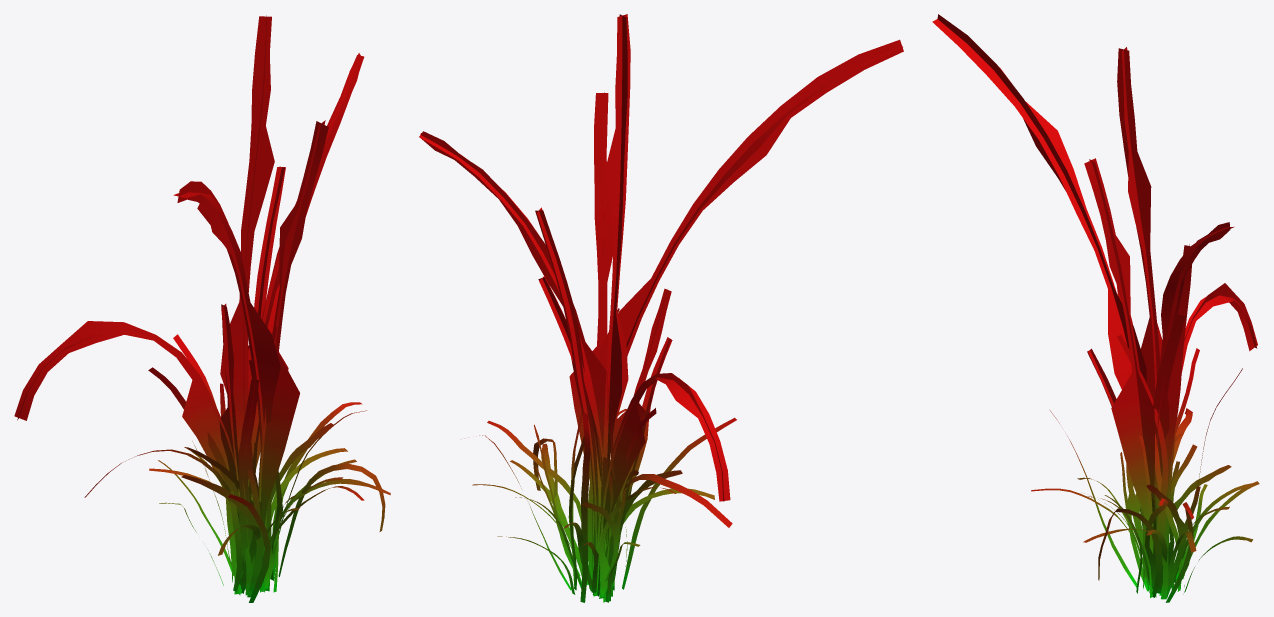
The model's file is SM_Dry_Wheatgrass_05.FBX.
The picture shows the model from 3 angles, left to right: view 1: azimuth 30°, elevation 25°; view 2: azimuth 150°, elevation 25°; view 3: azimuth 270°, elevation 25°; orthographic projection. The views are drawn at different scales.
Parts seen in each view (by area): view 1: SM_Dry_Wheatgrass_05; view 2: SM_Dry_Wheatgrass_05; view 3: SM_Dry_Wheatgrass_05.
Part boxes in pixels (x1,y1,x2,y2): SM_Dry_Wheatgrass_05: [14, 15, 390, 602]; SM_Dry_Wheatgrass_05: [419, 14, 903, 602]; SM_Dry_Wheatgrass_05: [932, 14, 1259, 602].
Bounding box in the file's own units: 42.49 × 37.83 × 69.38.
